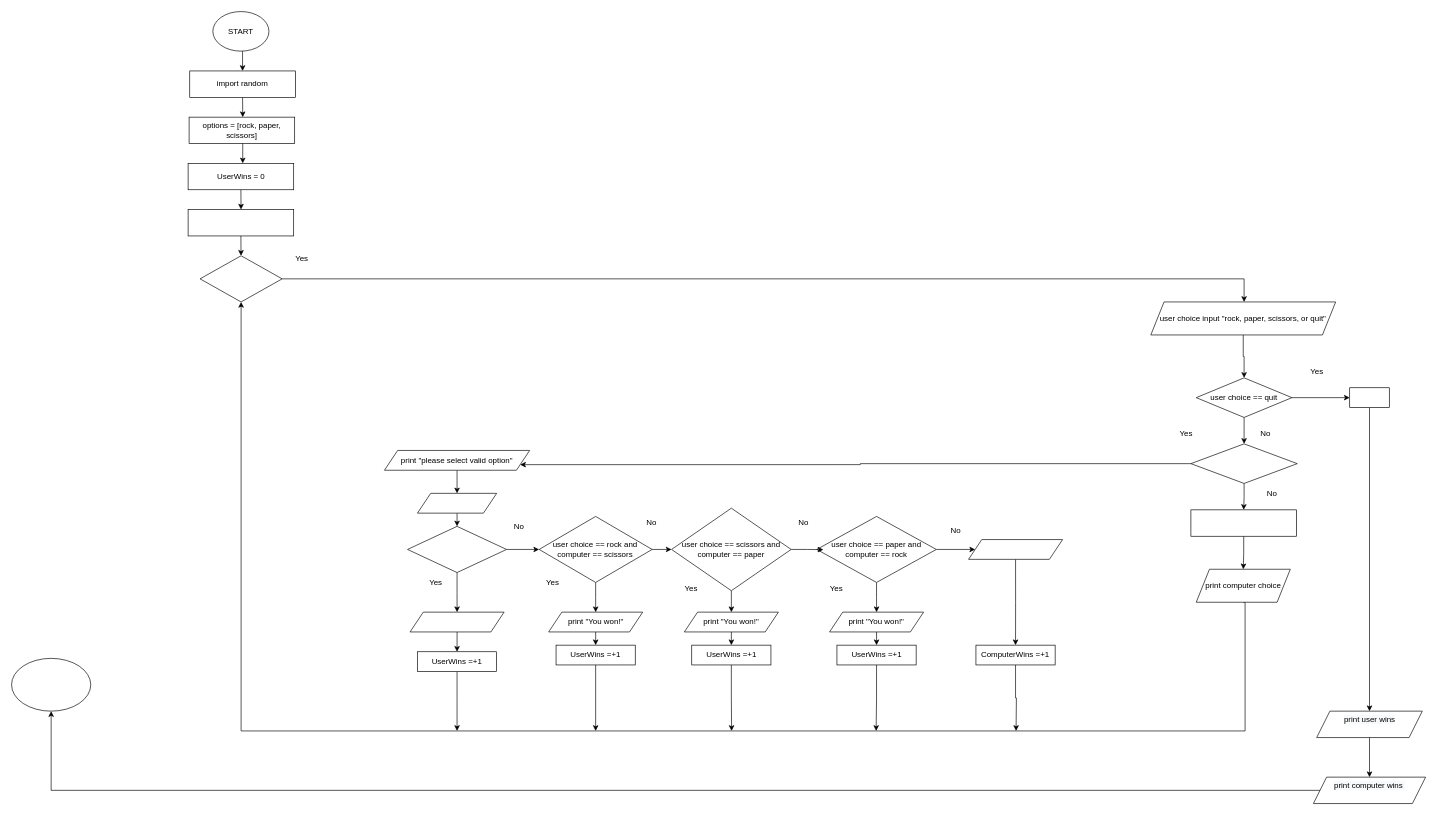
Image size: 1437x821. Some labels were removed from this diagram. Here are the shapes that lost their labels. From the top down, the centre of each, then its label:
pixel 240 222: ComputerWins = 0
pixel 240 278: While True
pixel 1369 397: break
pixel 1243 463: user choice not in options
pixel 457 503: continue
pixel 1243 522: computer = random.choice(options)
pixel 457 549: user choice == computer
pixel 1015 549: print "You lose!"
pixel 456 621: print "It's a tie!"
pixel 51 684: END
